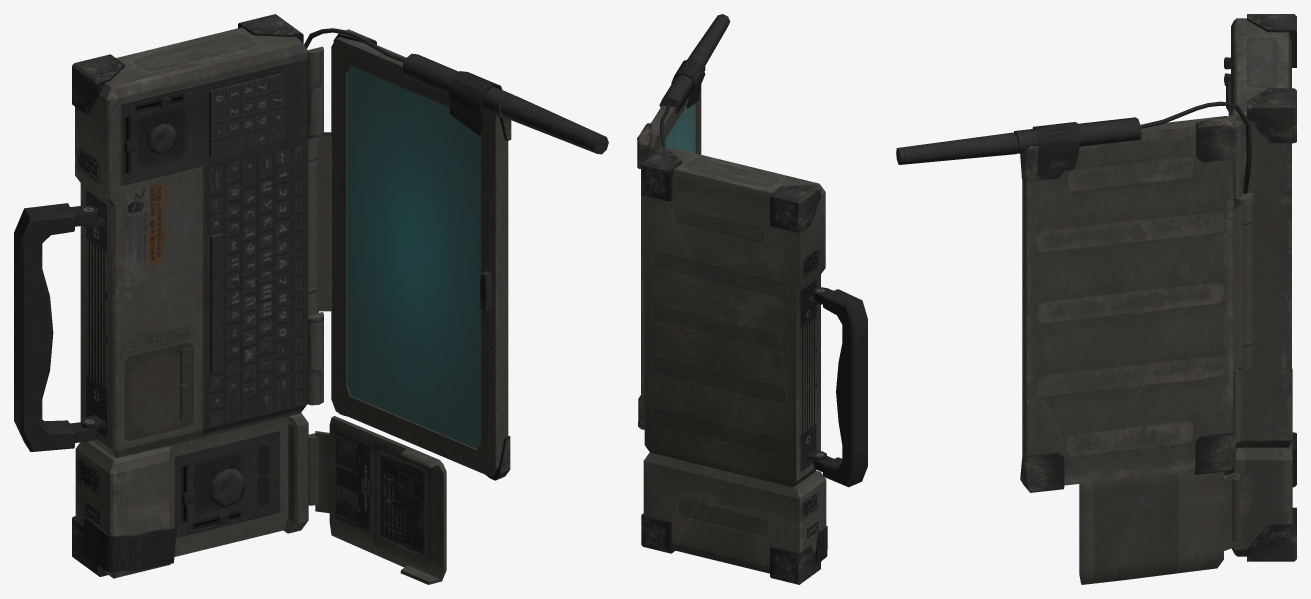
The model's file is viewmodel_uav_control_unit_LOD0.obj.
3 views of the same model, side by side, from view 1: azimuth 30°, elevation 25°; view 2: azimuth 150°, elevation 25°; view 3: azimuth 270°, elevation 25° (orthographic). The views are drawn at different scales.
Visible parts, largest first — view 1: mtl_uav_control, mtl_uav_scanlines; view 2: mtl_uav_control, mtl_uav_scanlines; view 3: mtl_uav_control.
Part boxes in pixels (x1,y1,x2,y2): mtl_uav_control: (14, 14, 608, 584); mtl_uav_scanlines: (347, 65, 480, 449); mtl_uav_control: (637, 14, 867, 584); mtl_uav_scanlines: (659, 103, 695, 153); mtl_uav_control: (896, 14, 1296, 584).
Bounding box in the file's own units: 39.42 × 48.81 × 37.78.
4 materials, 4 textured.
